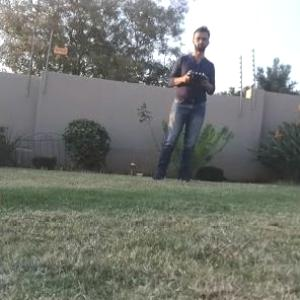follow: (145, 20, 218, 186)
